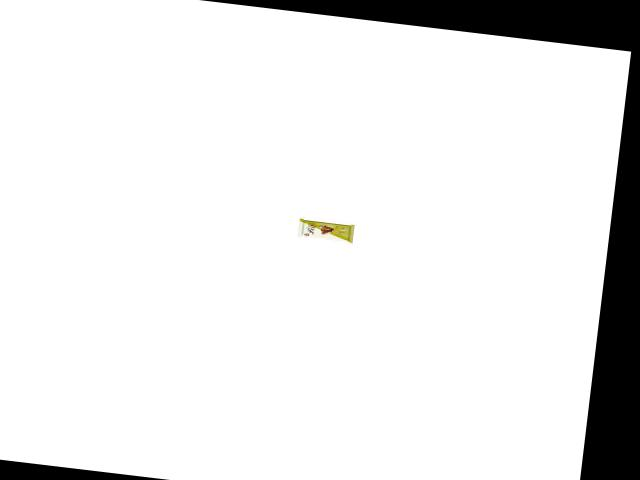chocolate: (293, 212, 358, 247)
